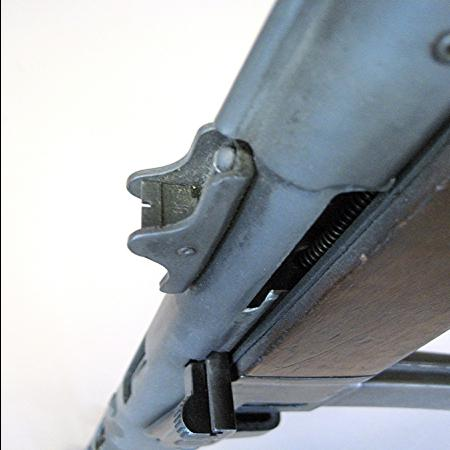Pistol: (83, 1, 448, 449)
